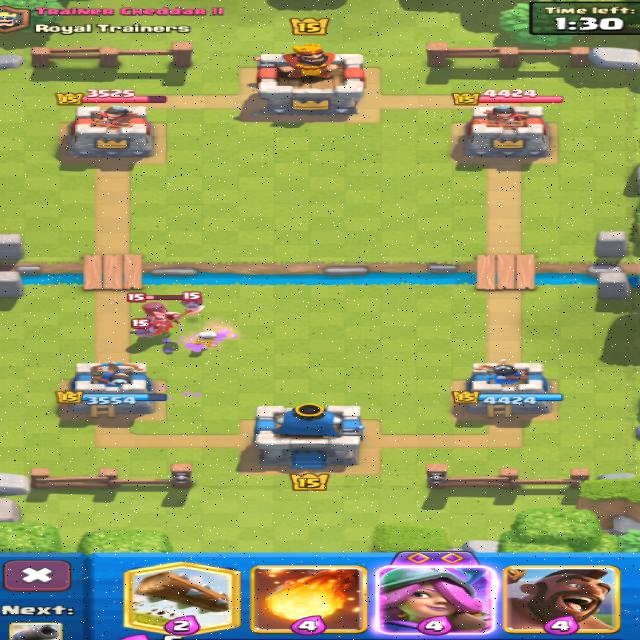Enemy-Bat: (181, 291, 202, 311), (131, 318, 151, 335)
Enemy-KingTower: (256, 44, 364, 114)
Enemy-NightWitch: (129, 293, 202, 335)
Enemy-PrincessTower: (463, 105, 549, 162), (67, 106, 153, 158)
Player-KingTower: (254, 403, 364, 468)
Player-PrincessTower: (56, 362, 166, 418), (455, 360, 562, 416)
Player-Skeleton: (193, 331, 217, 348)
